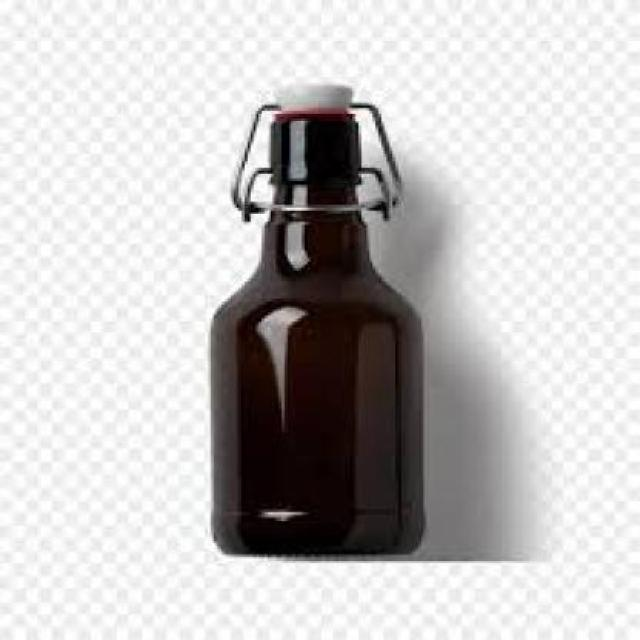kaca: (208, 117, 422, 552)
